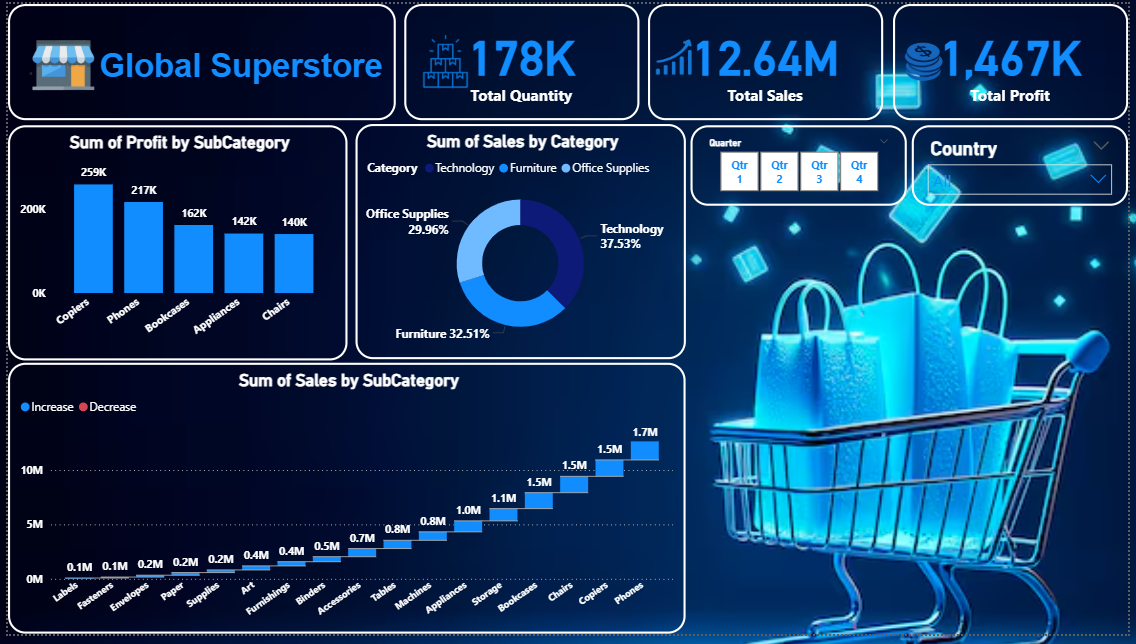

The dashboard page shown, as its layout file describes it:
{"tool":"powerbi","page":{"name":"Dashboard 1","canvas":[1280,720],"ordinal":0},"visuals":[{"type":"card","fields":{"Values":["Sum(Orders.Profit)"]},"box":[1011.4,0,268.6,132.9],"z":0},{"type":"card","fields":{"Values":["Sum(Orders.Sales)"]},"box":[731.4,0,268.6,132.9],"z":1000},{"type":"card","fields":{"Values":["Sum(Orders.Quantity)"]},"box":[452.3,0,268.6,132.6],"z":2000},{"type":"textbox","box":[0,0,442.9,132.9],"z":3000},{"type":"image","box":[0,14,126.7,95.3],"z":4000},{"type":"slicer","fields":{"Values":["Orders.Ship Date.Variation.Date Hierarchy.Quarter"]},"box":[780.5,138.6,247,92],"z":5000},{"type":"slicer","fields":{"Values":["Orders.Country"]},"box":[1033.3,138.6,247,92],"z":6000},{"type":"image","box":[997.2,23.3,95.5,87.4],"z":7000},{"type":"image","box":[462.5,14,74.6,102.5],"z":8000},{"type":"image","box":[731.6,23.3,60.6,75.7],"z":9000},{"type":"columnChart","fields":{"Category":["Orders.SubCategory"],"Y":["Sum(Orders.Profit)"]},"box":[0,138.6,387.9,269.1],"z":10000},{"type":"donutChart","fields":{"Y":["Sum(Orders.Sales)"],"Category":["Orders.Category"]},"box":[397.2,137.5,377.4,269.1],"z":11000},{"type":"waterfallChart","fields":{"Category":["Orders.SubCategory"],"Y":["Sum(Orders.Sales)"]},"box":[0,410,774.7,309.9],"z":12000}]}

Visuals, with their boxes in screenshot pixels (x1, y1, x2, y2), scaled from the page's 1280x720 canvas onto the 1136x644 screenshot:
card - Sum(Orders.Profit): 898,0,1135,119
card - Sum(Orders.Sales): 649,0,888,119
card - Sum(Orders.Quantity): 401,0,640,119
textbox: 0,0,393,119
image: 0,13,112,98
slicer - Orders.Ship Date.Variation.Date Hierarchy.Quarter: 693,124,912,206
slicer - Orders.Country: 917,124,1135,206
image: 885,21,970,99
image: 410,13,477,104
image: 649,21,703,89
columnChart - Orders.SubCategory x Sum(Orders.Profit): 0,124,344,365
donutChart - Sum(Orders.Sales) x Orders.Category: 353,123,687,364
waterfallChart - Orders.SubCategory x Sum(Orders.Sales): 0,367,688,643
